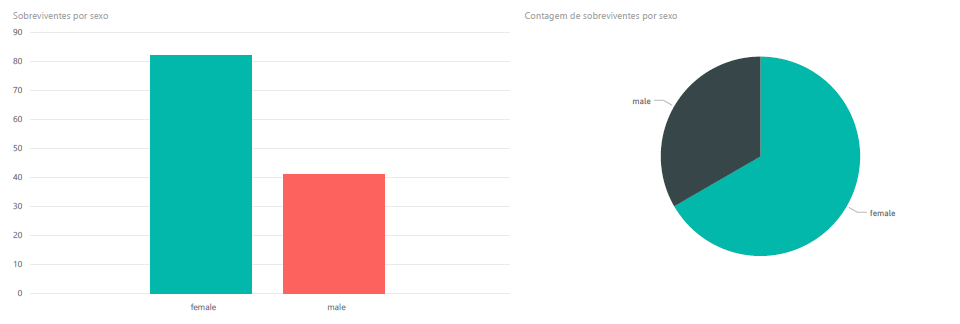

The dashboard page shown, as its layout file describes it:
{"tool":"powerbi","page":{"name":"Página 1","canvas":[1280,720],"ordinal":0},"visuals":[{"type":"clusteredColumnChart","title":"Sobreviventes por sexo","fields":{"Y":["Sum(train.Survived)"],"Category":["train.Sex"]},"box":[9.5,0,647.1,393.1],"z":1},{"type":"pieChart","title":"Contagem de sobreviventes por sexo","fields":{"Y":["CountNonNull(train.Sex)"],"Category":["train.Sex Hierarquia.Sex","train.Survived"]},"box":[666,0,614.6,360.7],"z":2}]}

Visuals, with their boxes on the page's 1280x720 design canvas (x1, y1, x2, y2). These are canvas units, not pixel positions in the 960x324 screenshot, which may show the page scaled, cropped or inside an application window:
"Sobreviventes por sexo" clusteredColumnChart: [10, 0, 657, 393]
"Contagem de sobreviventes por sexo" pieChart: [666, 0, 1281, 361]
